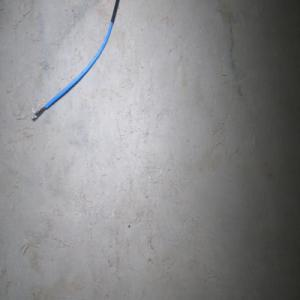Wire: (30, 0, 119, 121)
